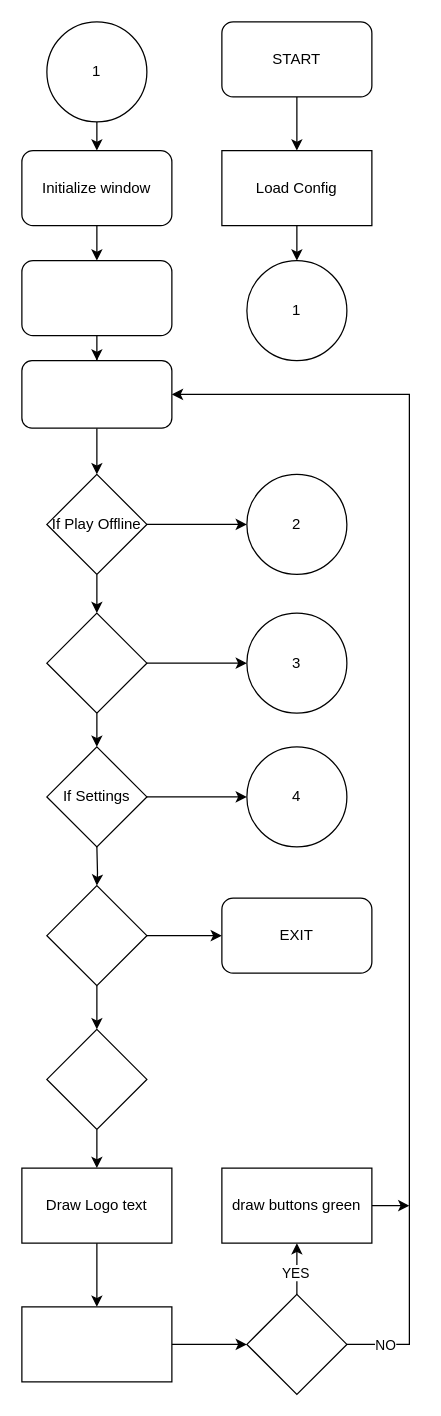
This 441x1416 diagram has some shape labels left out. The centre of each missing label's shape, as x and y in pixels:
"Define case gamestate (Menu, offline, online)" belongs at pixel 96 297.
"Draw menu" belongs at pixel 96 1344.
"If Exit" belongs at pixel 96 935.
"if mouse is within button bounds" belongs at pixel 296 1343.
"If no input" belongs at pixel 96 1078.
"If Play Online" belongs at pixel 96 662.
"While window not closed" belongs at pixel 96 393.
